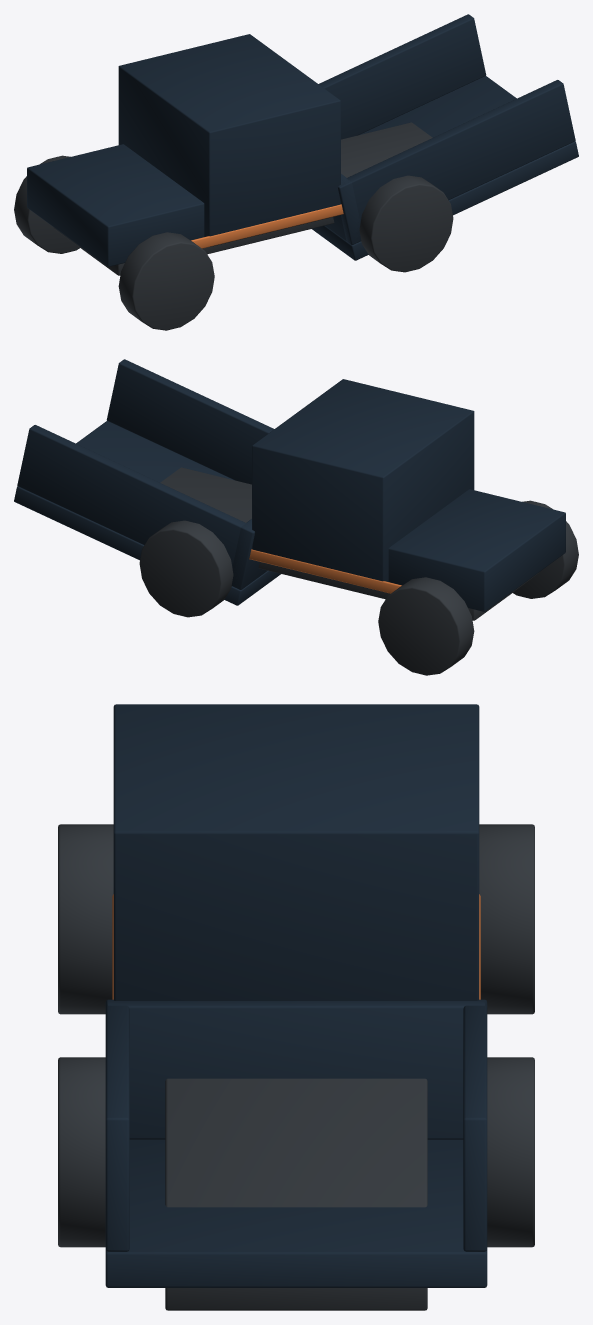
3 renders of one model, top to bottom at view 1: azimuth 30°, elevation 25°; view 2: azimuth 150°, elevation 25°; view 3: azimuth 270°, elevation 25°, orthographic. The views are drawn at different scales.
Parts seen in each view (by area): view 1: HerosTruckMark; view 2: HerosTruckMark; view 3: HerosTruckMark.
Boxes of the visible parts, box(x1,y1,x2,y2) form: HerosTruckMark: box(14, 14, 578, 330); HerosTruckMark: box(14, 359, 578, 675); HerosTruckMark: box(58, 704, 534, 1310).
Size of the model in its own units: 2.78 by 1 by 1.24.
